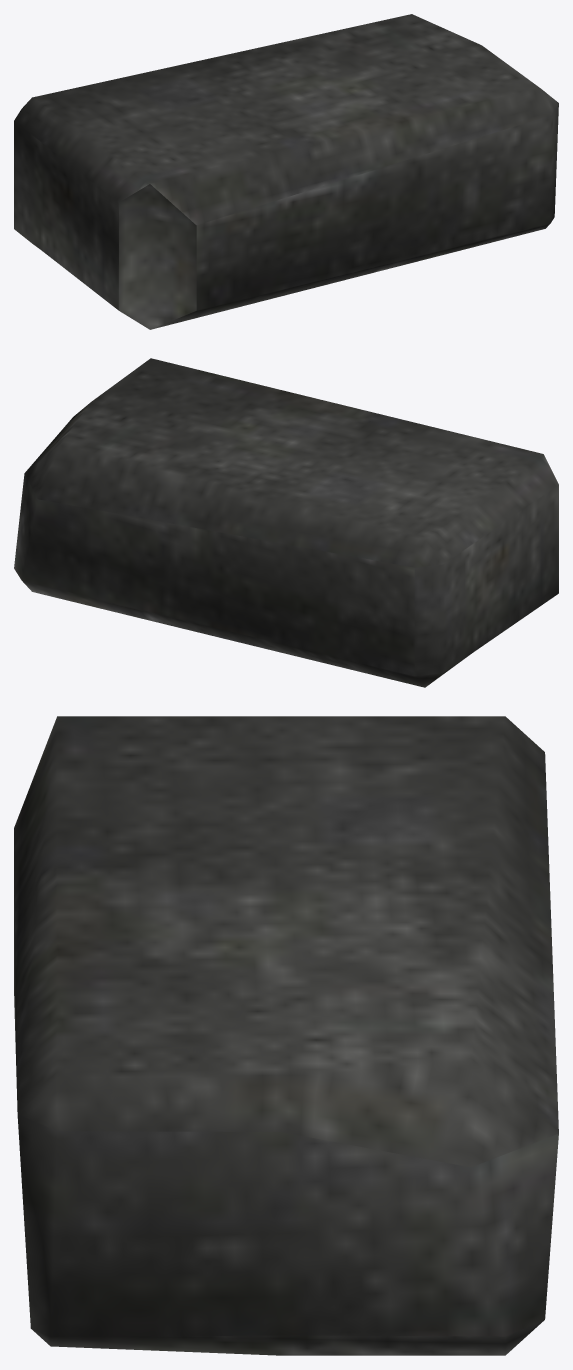
The model's file is ConcBlock_03.FBX.
3 views of the same model, one above another, from view 1: azimuth 30°, elevation 25°; view 2: azimuth 150°, elevation 25°; view 3: azimuth 270°, elevation 25° (orthographic). The views are drawn at different scales.
Visible parts, largest first — view 1: ConcBlock_03; view 2: ConcBlock_03; view 3: ConcBlock_03.
Boxes of the visible parts, box(x1,y1,x2,y2) form: ConcBlock_03: box(14, 14, 558, 329); ConcBlock_03: box(14, 358, 558, 687); ConcBlock_03: box(14, 716, 558, 1355).
Size of the model in its own units: 45.43 by 14.68 by 26.14.
